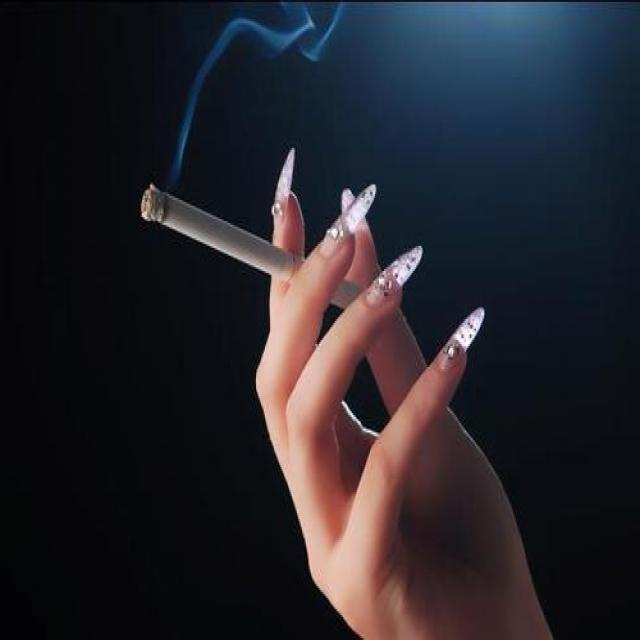smoking: (139, 181, 378, 310)
